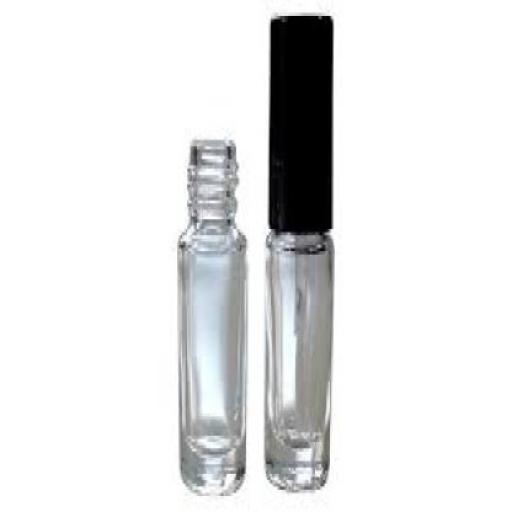glass: (177, 140, 246, 493), (262, 232, 330, 487)
plastic: (267, 12, 330, 233)
